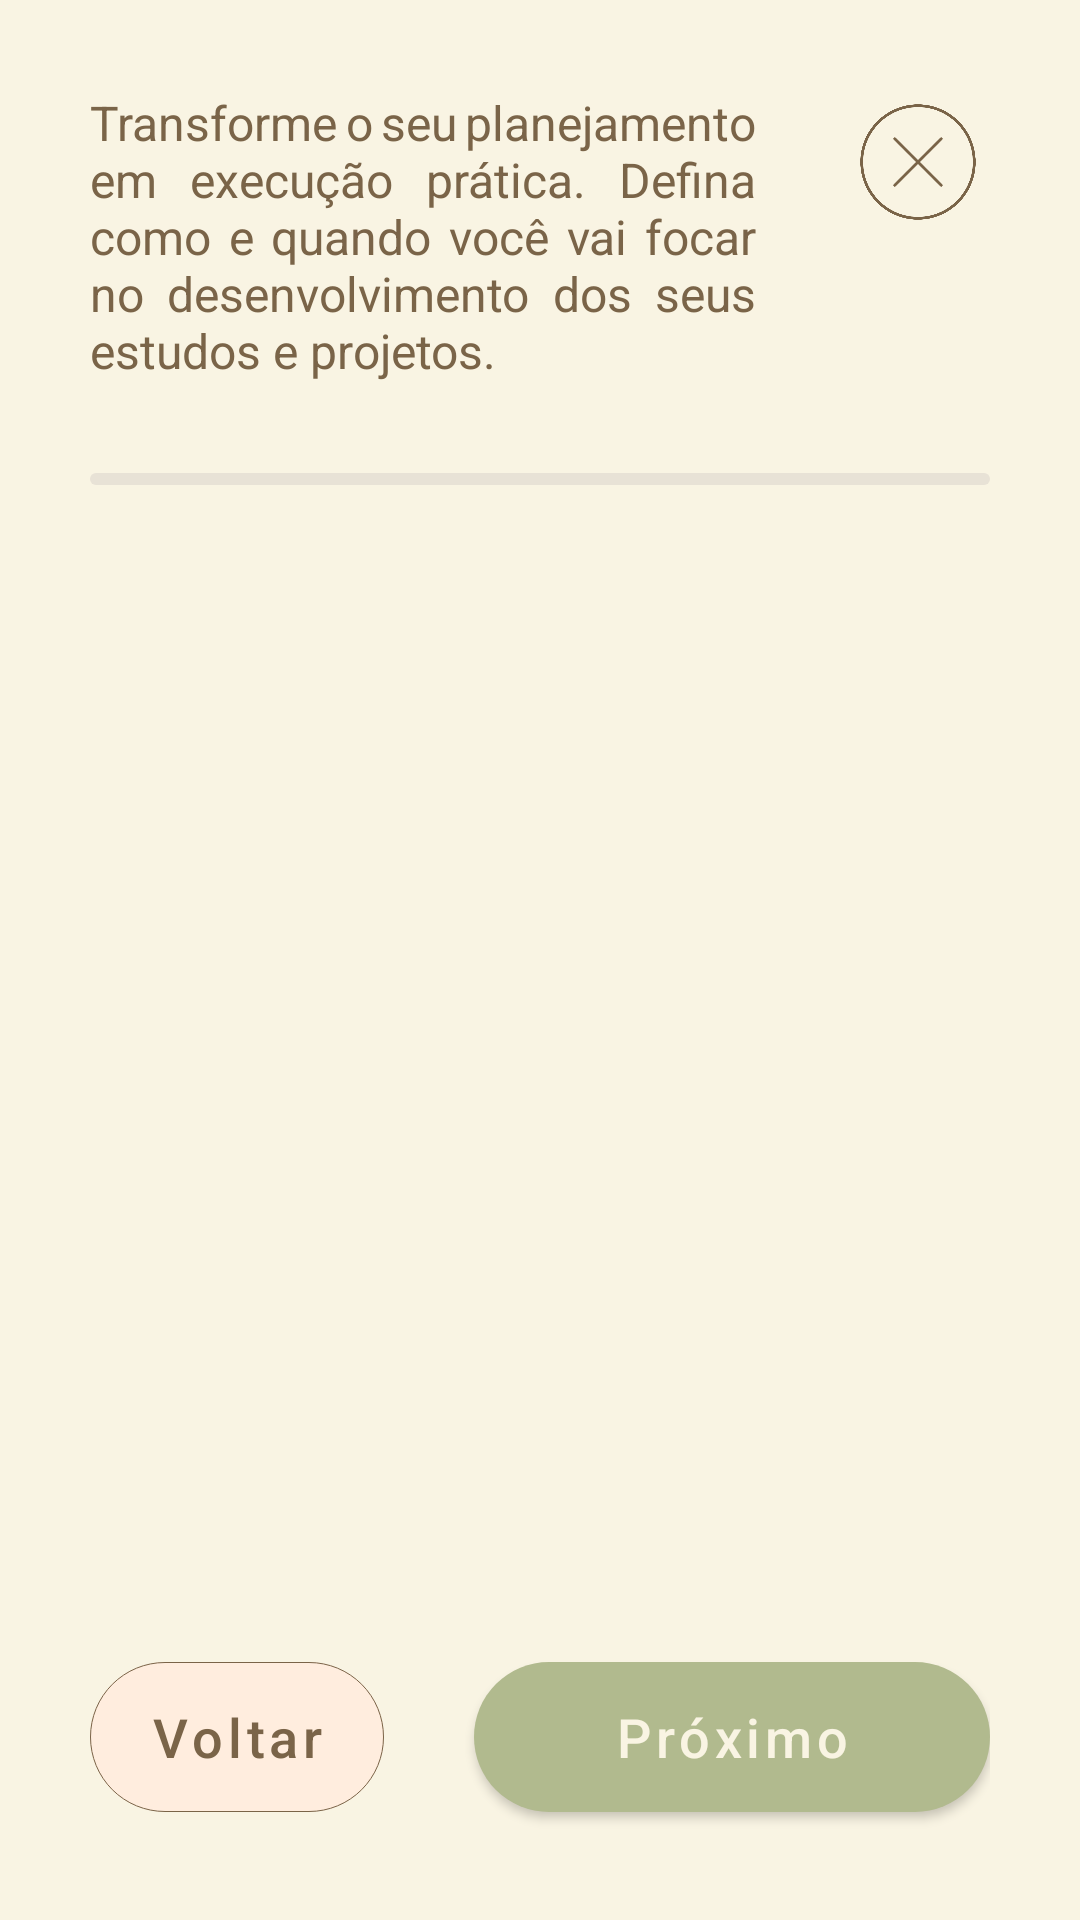

Icon click points for this 1080 x 1920 phone screenshot, format (x,y):
Fechar assistente: (918,162)
